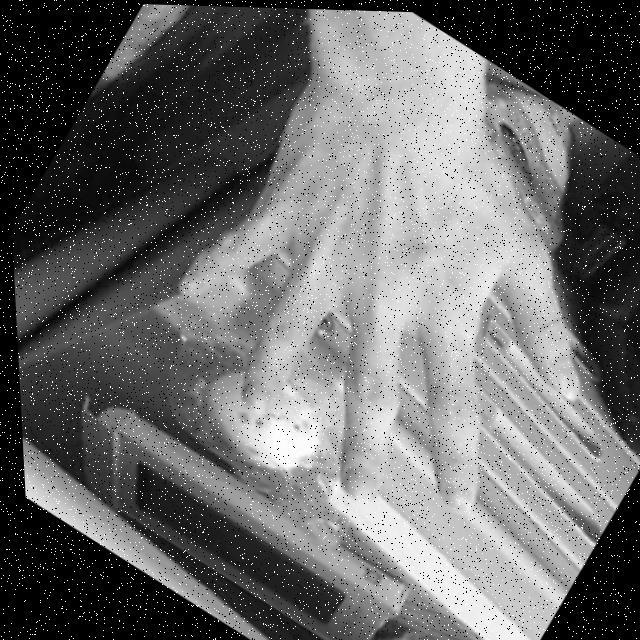no-gloves: (116, 59, 640, 578)
